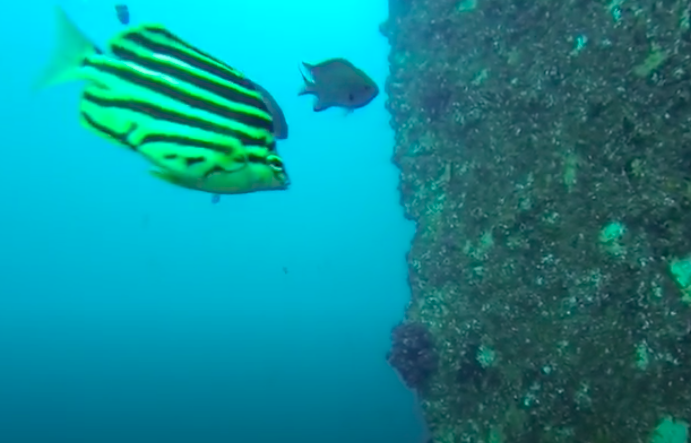ishidai: (45, 5, 306, 211)
smallfish: (287, 44, 388, 131)
